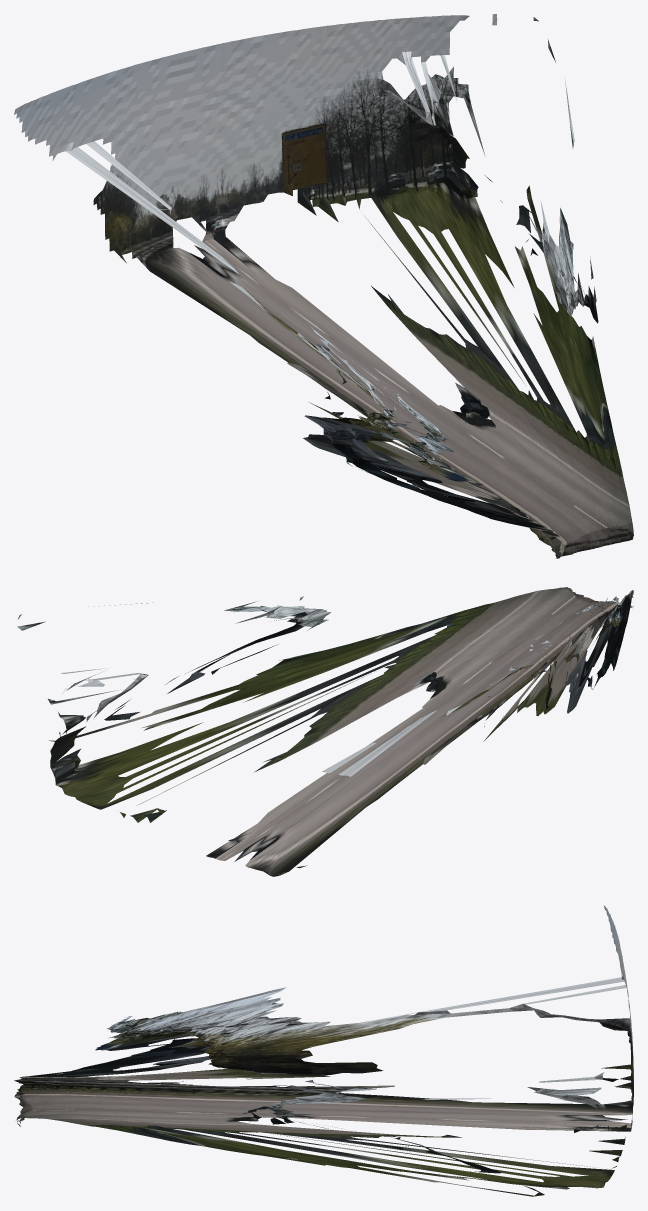
The picture shows the model from 3 angles, top to bottom: view 1: azimuth 30°, elevation 25°; view 2: azimuth 150°, elevation 25°; view 3: azimuth 270°, elevation 25°; orthographic projection. The views are drawn at different scales.
Visible parts, largest first — view 1: defaultobject; view 2: defaultobject; view 3: defaultobject.
Boxes of the visible parts, bbox=[...] form: defaultobject: bbox=[14, 14, 633, 558]; defaultobject: bbox=[17, 587, 633, 876]; defaultobject: bbox=[14, 905, 633, 1196].
Bounding box in the file's own units: 31.03 × 12.08 × 44.61.
1 material, 1 textured.
